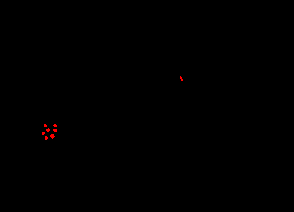Target: (50, 134, 55, 139), (46, 128, 50, 132), (180, 76, 183, 81), (53, 124, 57, 127), (53, 129, 57, 132), (45, 136, 48, 140), (44, 124, 47, 127), (42, 132, 45, 135)
